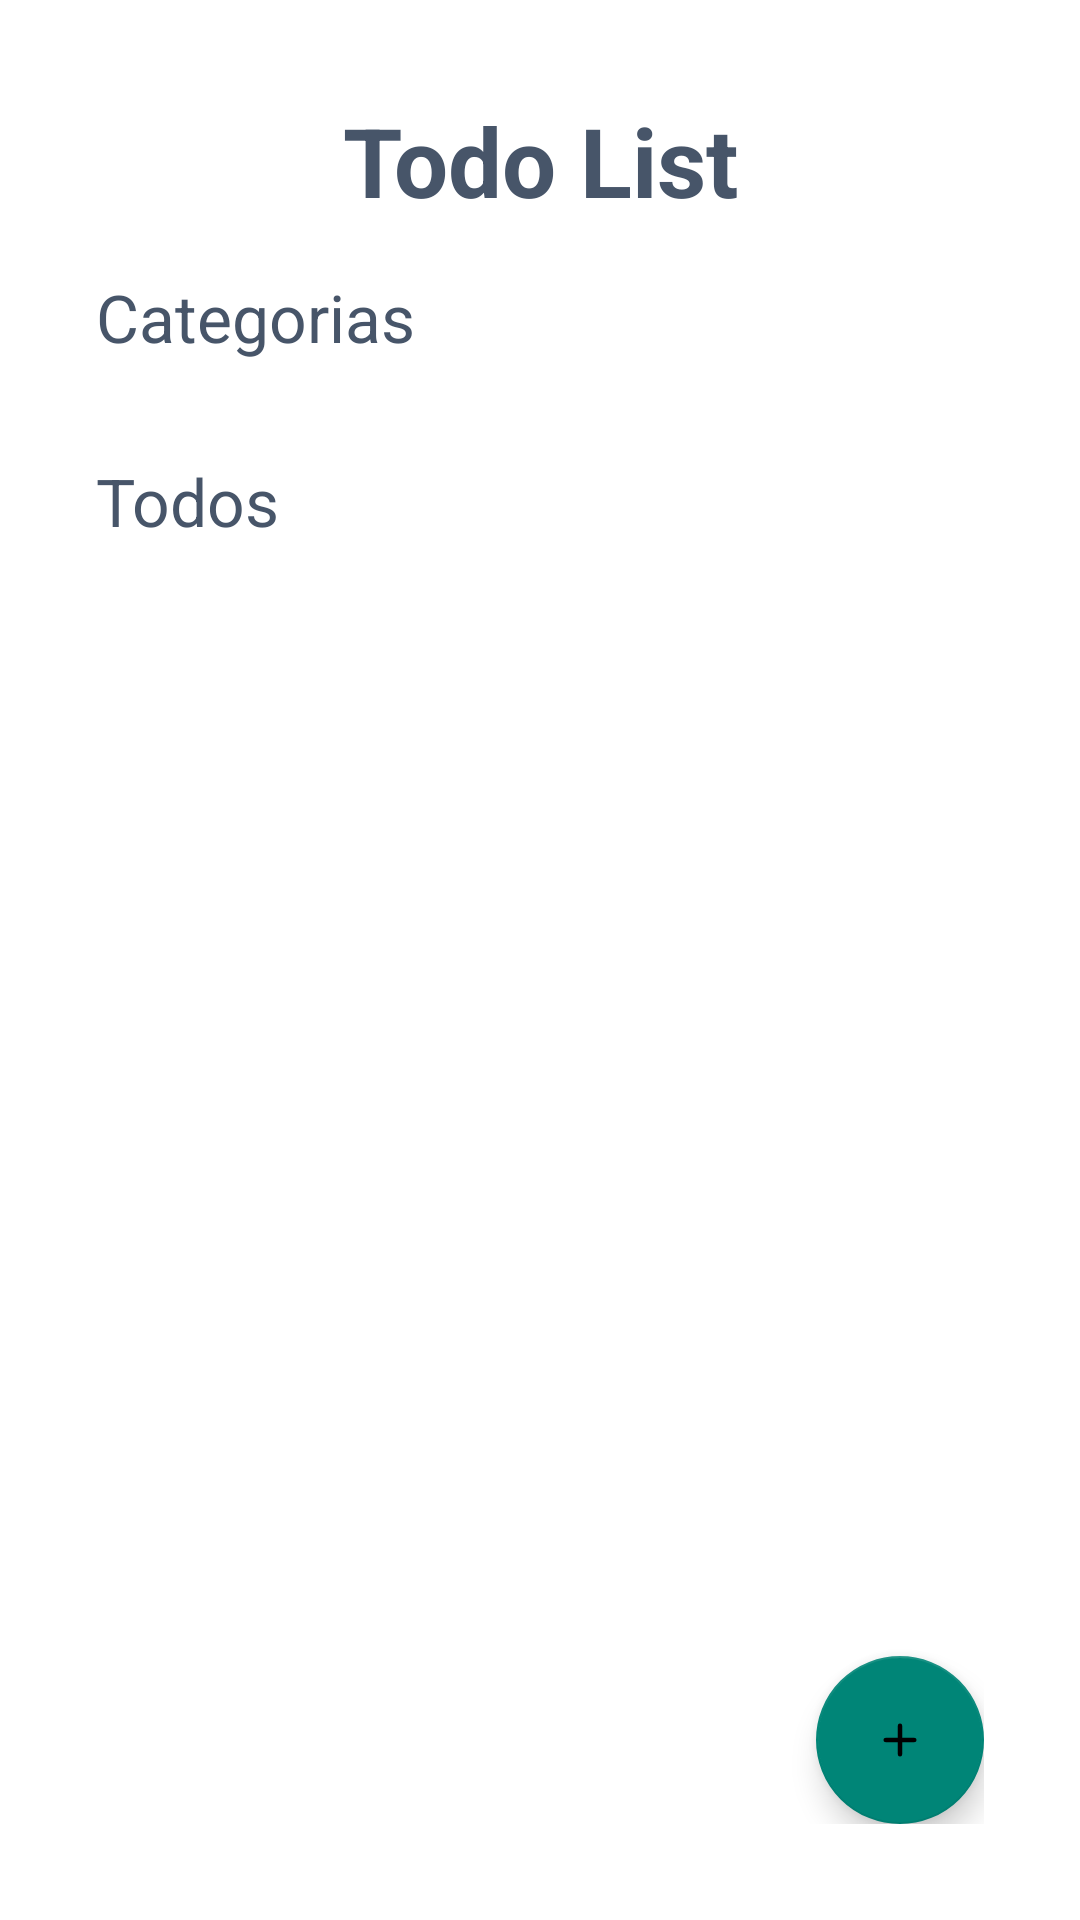

Icons on this 1080w x 1920h Android screen, each with its box as (x1=x1, y1=y1, x2=x2, y2=y2):
create a new task: (x1=816, y1=1656, x2=984, y2=1824)
